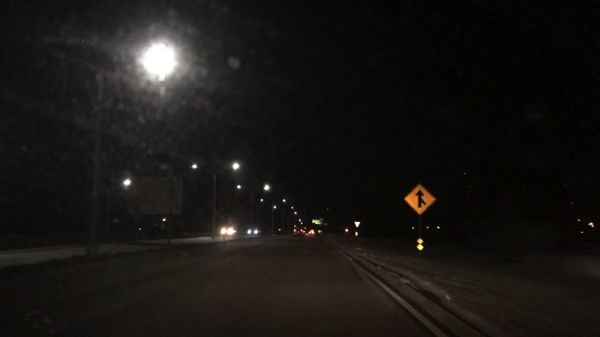car: (218, 225, 242, 236), (244, 226, 264, 237), (293, 226, 308, 237), (301, 229, 309, 236), (277, 228, 285, 233), (308, 230, 315, 235)
traffic light: (354, 232, 358, 236)
traffic sign: (128, 176, 184, 215), (403, 183, 437, 216), (113, 217, 121, 225), (353, 221, 361, 228), (415, 238, 424, 244), (416, 244, 423, 251), (311, 219, 323, 223), (315, 222, 322, 225), (318, 229, 321, 234), (319, 218, 323, 221)
